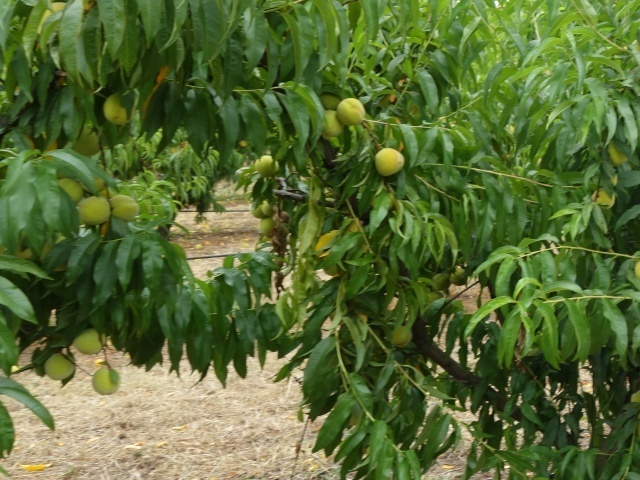peach: (99, 88, 140, 128), (74, 192, 113, 228), (51, 173, 89, 209), (70, 324, 109, 359), (369, 144, 407, 178), (103, 192, 142, 225), (39, 351, 78, 384), (67, 124, 103, 159), (72, 165, 114, 195), (334, 96, 370, 130), (88, 364, 123, 398), (600, 137, 634, 170), (317, 105, 347, 142), (587, 183, 619, 214), (315, 86, 349, 114), (385, 321, 414, 351), (252, 153, 283, 180), (446, 264, 469, 287), (429, 269, 452, 291), (257, 199, 278, 219), (255, 215, 275, 235)
